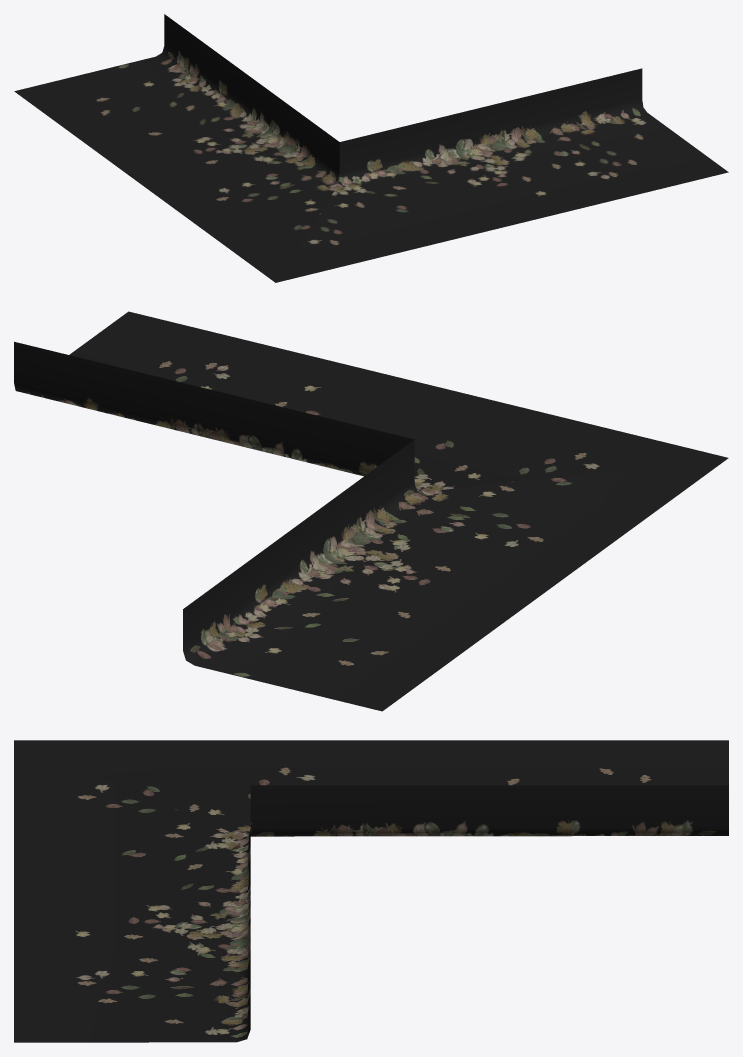
The model's file is SM_leaf_decal_05.fbx.
3 views of the same model, one above another, from view 1: azimuth 30°, elevation 25°; view 2: azimuth 150°, elevation 25°; view 3: azimuth 270°, elevation 25° (orthographic). The views are drawn at different scales.
Parts seen in each view (by area): view 1: SM_leaf_decal_05; view 2: SM_leaf_decal_05; view 3: SM_leaf_decal_05.
Boxes of the visible parts, left/top/right/bottom form: SM_leaf_decal_05: left=14, top=14, right=728, bottom=282; SM_leaf_decal_05: left=14, top=311, right=728, bottom=711; SM_leaf_decal_05: left=14, top=740, right=728, bottom=1042.
Bounding box in the file's own units: 480 × 480 × 41.1.
1 material, 1 textured.
